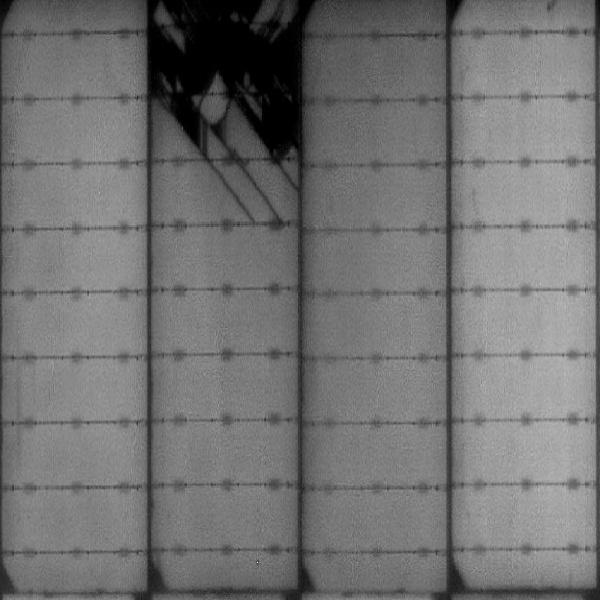broken: (151, 1, 300, 225)
